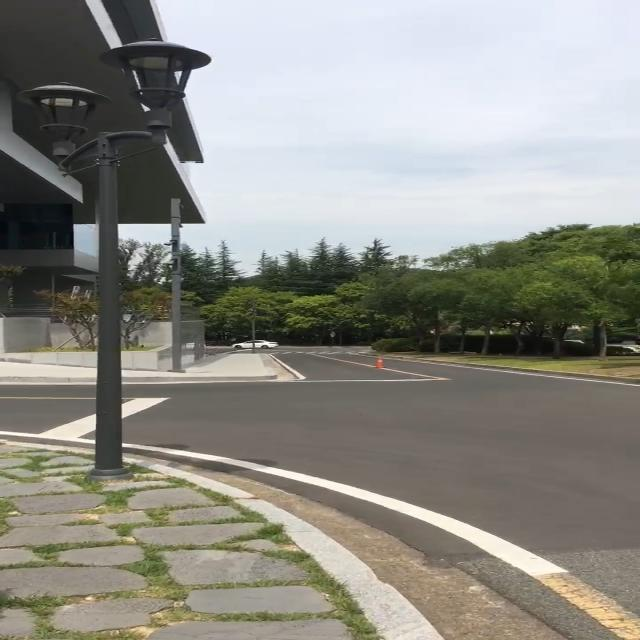obstacle: (12, 40, 204, 472)
road: (122, 356, 640, 640), (0, 384, 95, 438)
sidewalk: (0, 444, 443, 640)
